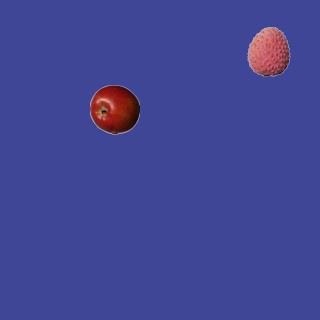Apple Braeburn: (89, 84, 139, 134)
Lychee: (243, 26, 293, 76)
